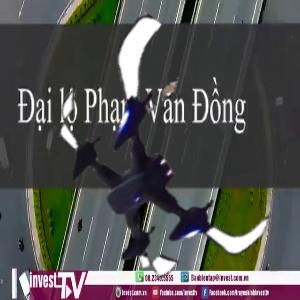drone: (36, 48, 287, 299)
